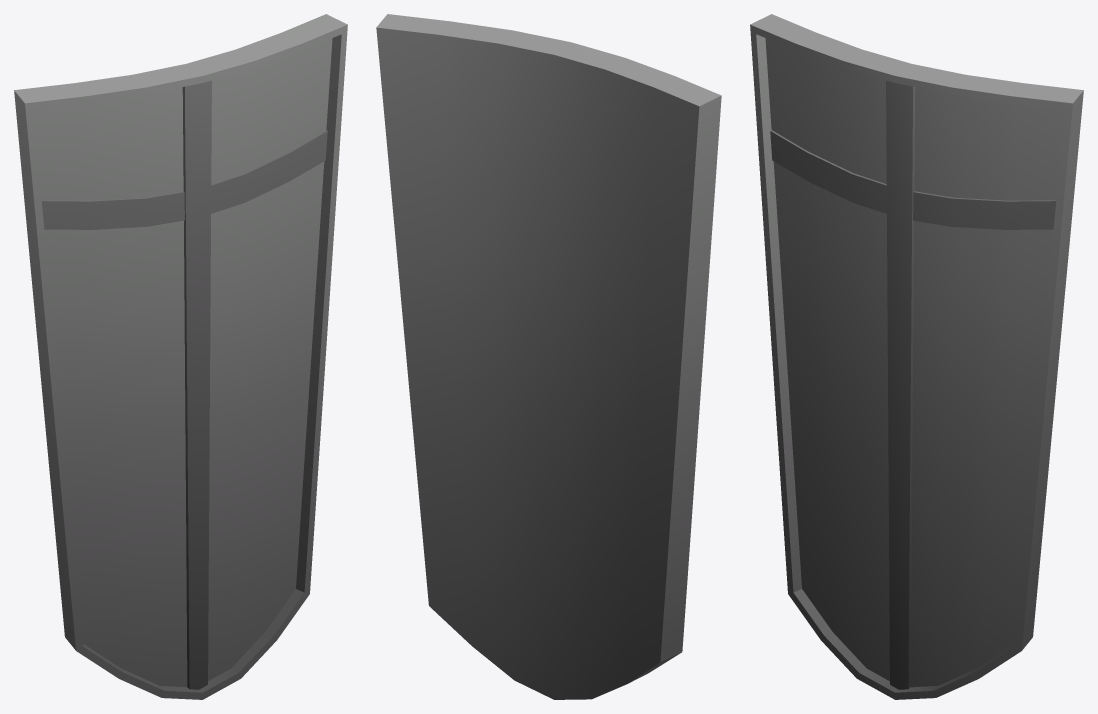
The model's file is Shield_2.fbx.
3 views of the same model, side by side, from view 1: azimuth 30°, elevation 25°; view 2: azimuth 150°, elevation 25°; view 3: azimuth 330°, elevation 25° (orthographic). The views are drawn at different scales.
Parts seen in each view (by area): view 1: Shield_2; view 2: Shield_2; view 3: Shield_2.
Part boxes in pixels (<box>): Shield_2: <box>14,14,347,699</box>; Shield_2: <box>376,14,721,699</box>; Shield_2: <box>750,14,1083,699</box>.
Bounding box in the file's own units: 67.87 × 125 × 11.88.
